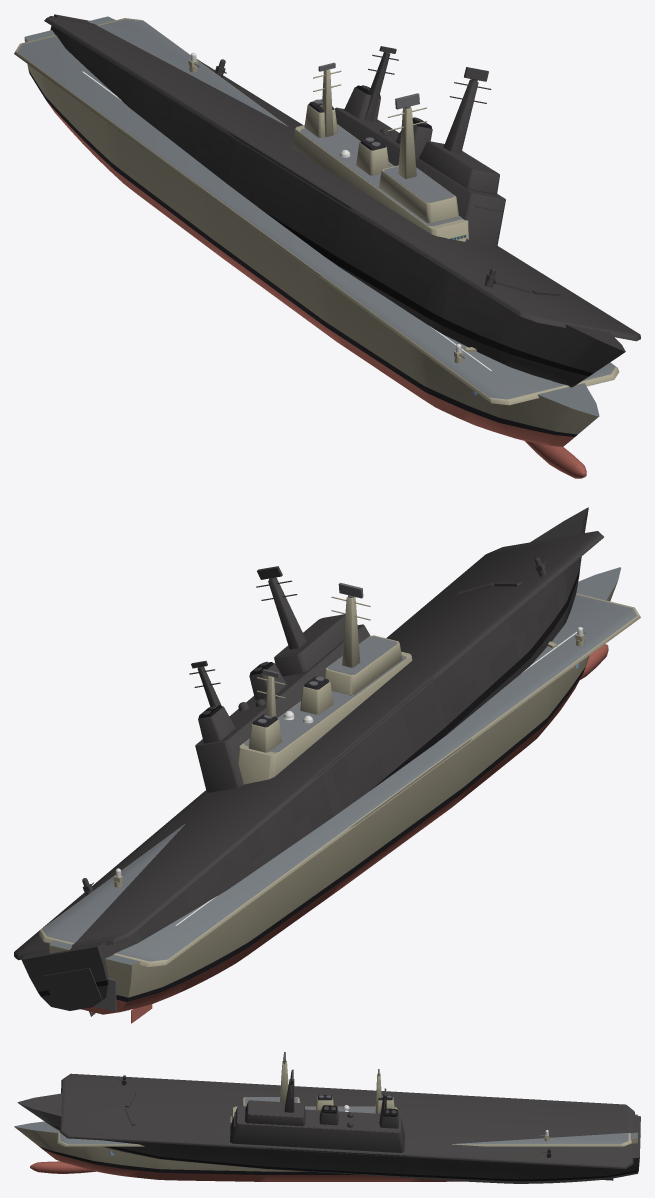
The model's file is landingShip__osumi_class.glb.
3 views of the same model, one above another, from view 1: azimuth 30°, elevation 25°; view 2: azimuth 150°, elevation 25°; view 3: azimuth 270°, elevation 25° (orthographic). The views are drawn at different scales.
Parts seen in each view (by area): view 1: Wreck, Hull_Mesh; view 2: Wreck, Hull_Mesh; view 3: Wreck, Hull_Mesh.
Boxes of the visible parts, x1,y1,x2,y2 form: Wreck: [44, 14, 640, 387]; Hull_Mesh: [14, 16, 619, 478]; Wreck: [14, 507, 603, 1016]; Hull_Mesh: [39, 567, 640, 1023]; Wreck: [17, 1069, 640, 1183]; Hull_Mesh: [14, 1061, 637, 1181].
Size of what is drawn, in the model's own units: 38.89 by 44.46 by 186.
